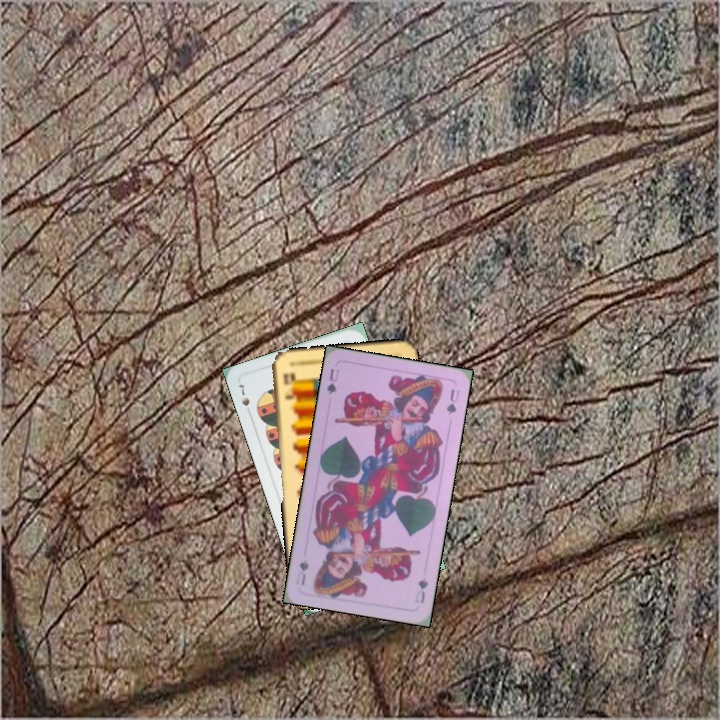E10: (280, 369, 295, 402)
GU: (411, 574, 431, 605), (323, 365, 341, 397)
S7: (235, 380, 254, 418)
